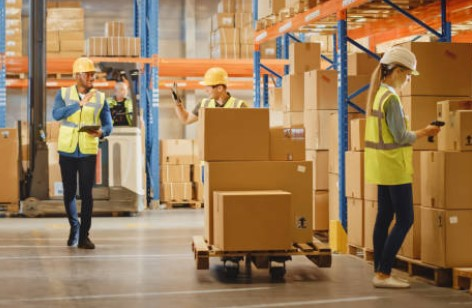stock: (198, 108, 270, 160)
worker: (364, 47, 416, 183), (58, 57, 103, 155)
